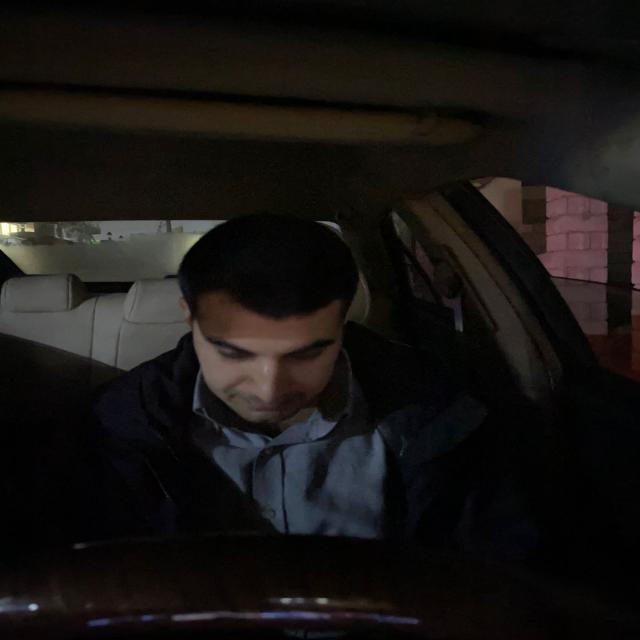drowsy: (171, 205, 366, 436)
